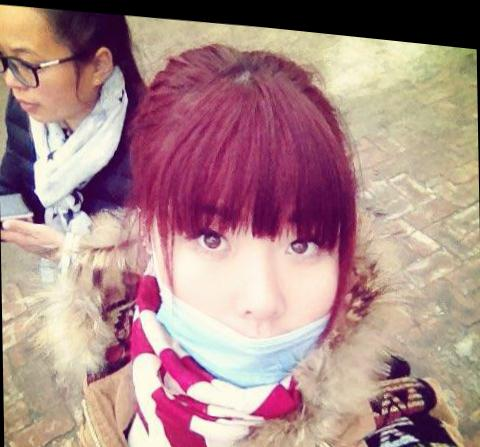NONE: (1, 19, 73, 128)
WRONG: (154, 181, 344, 386)
